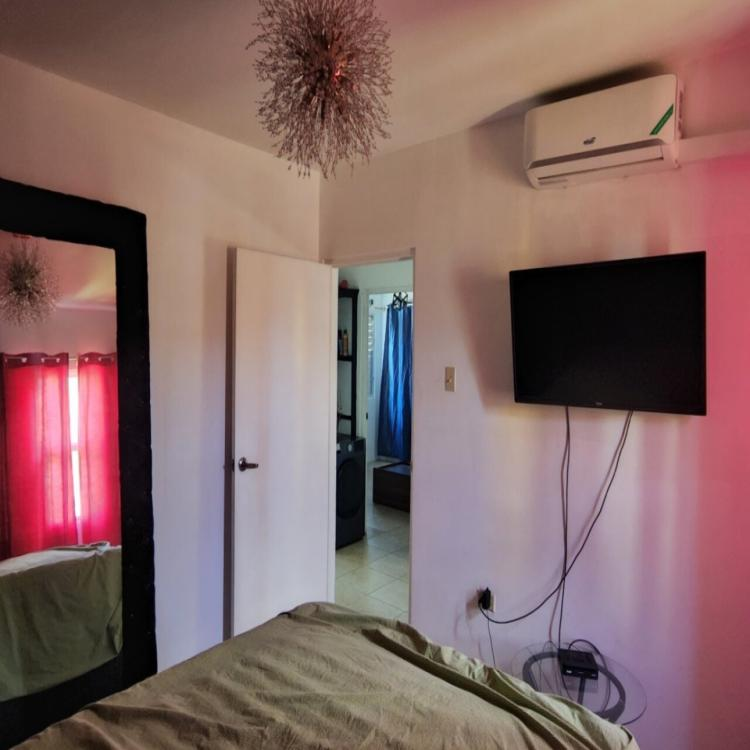OpenDoor: (317, 258, 424, 620)
